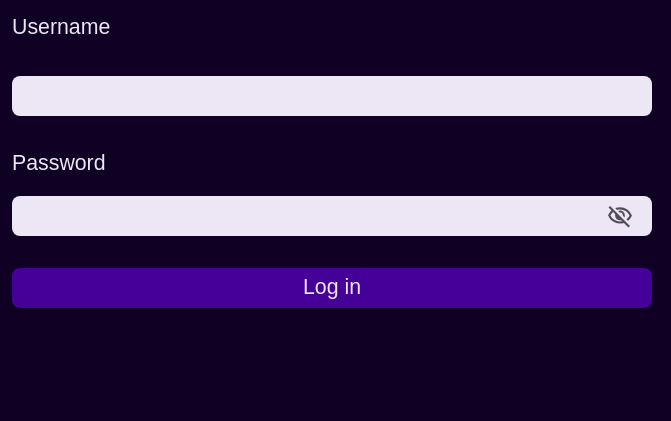
Scenario: Render login page › Form submission failed if password is less than 8 characters
The image size is (671, 421).
Type "1234567" into the password field with test id "password".
click(332, 216); type("1234567")  # box [12,196,652,236]
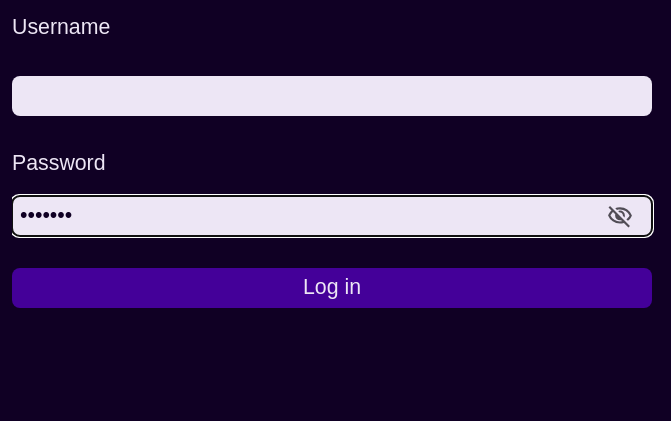
Click the button "Log in".
click(332, 288)  # box [12,268,652,308]
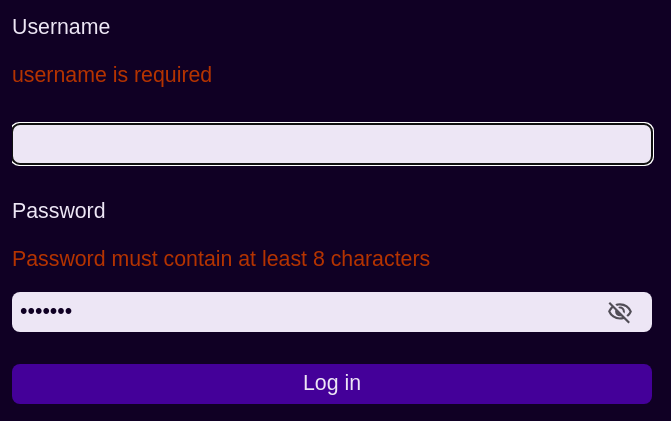
Now the text with test id "rfh-password-err" reads "Password must contain at least 8 characters", box [12,247,430,271]
